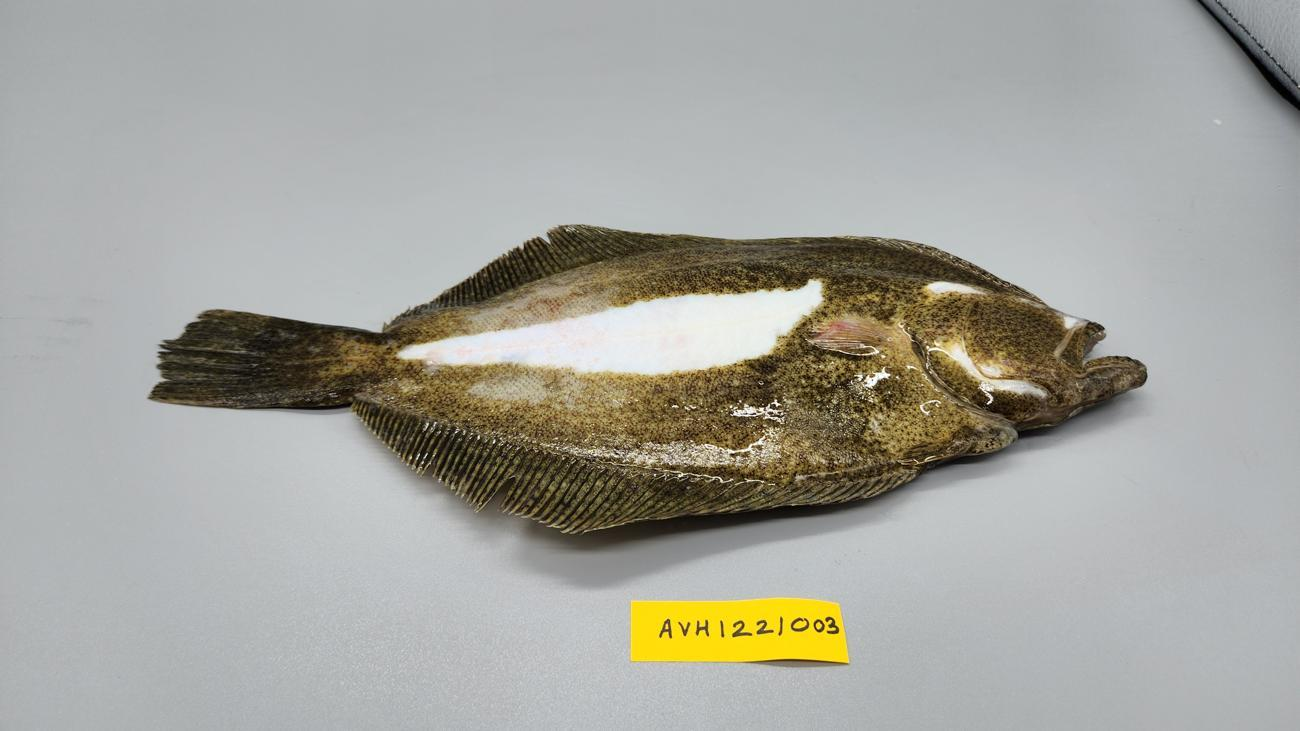VIDYH: (270, 333, 466, 420), (423, 287, 613, 375), (645, 279, 695, 362), (809, 314, 893, 353)
VIOUY: (147, 224, 1147, 537)
